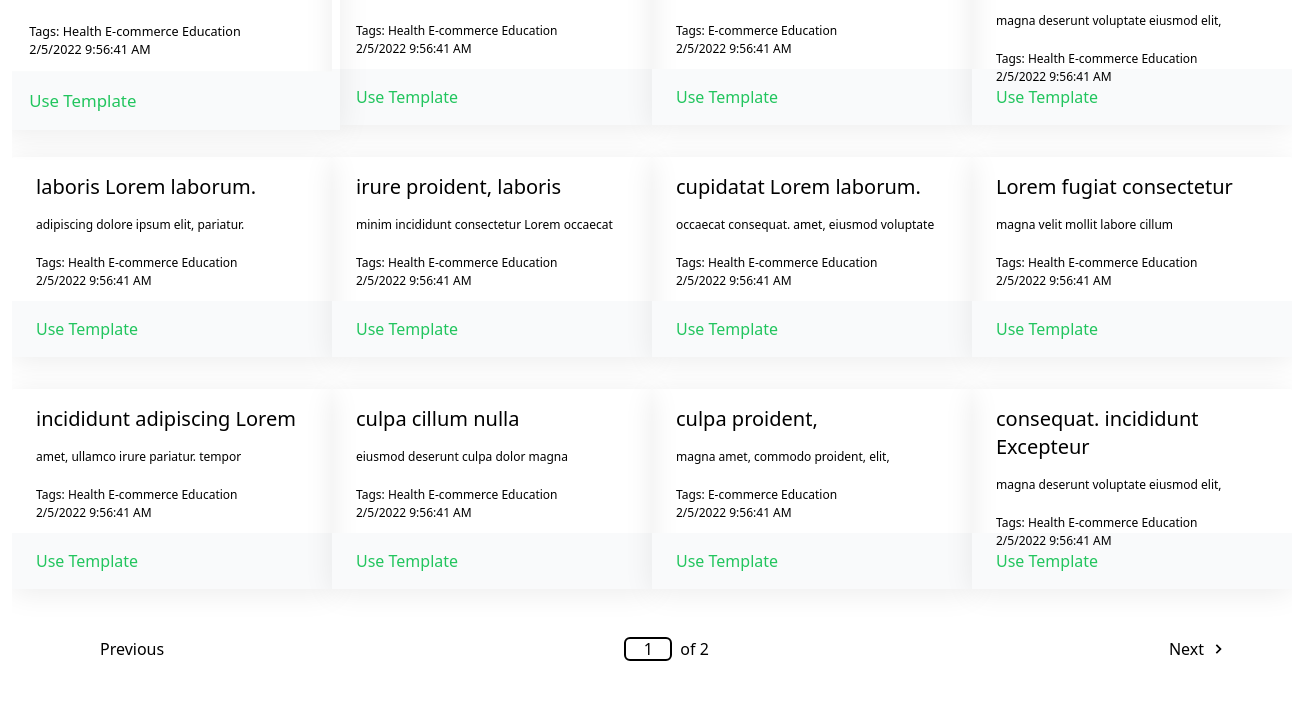
Test case: Unit tests for Templates Container › Next pagination button is disabled when user is on the last page
(page scrolled)
Click the button with test id "btnNext".
click(1198, 649)  # box [1169, 637, 1228, 661]
(page scrolled)
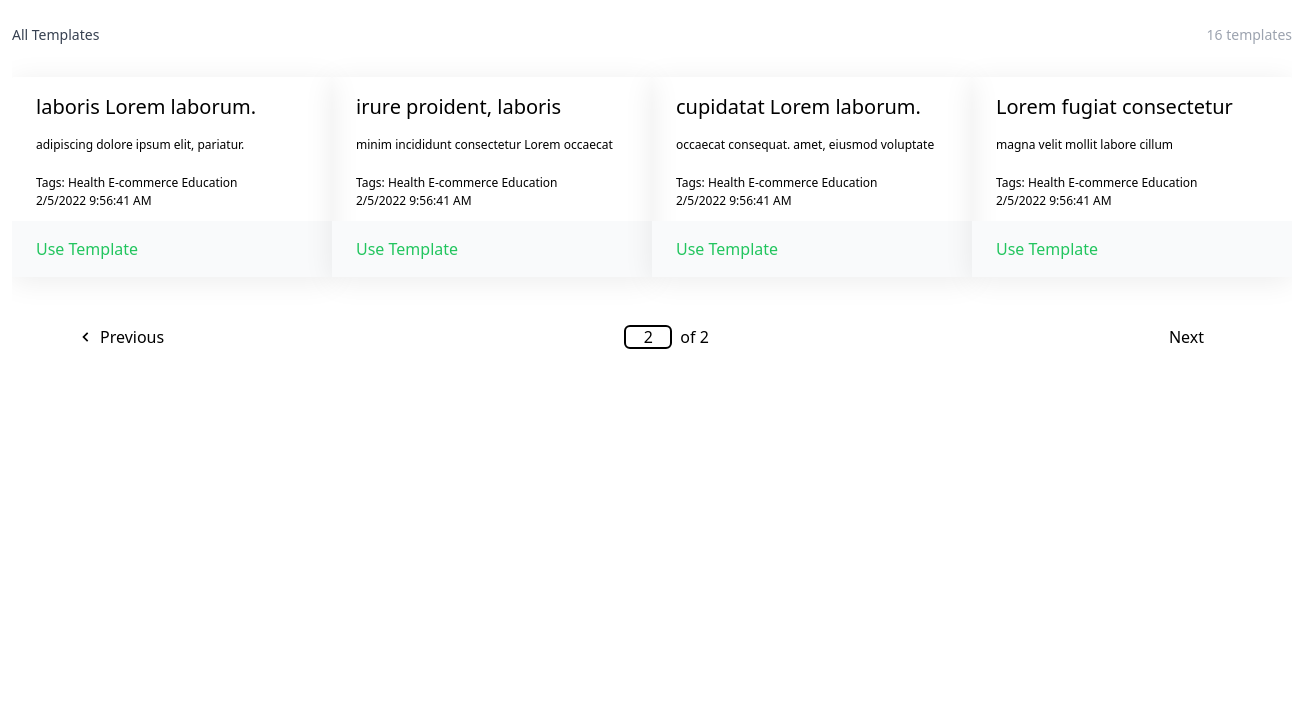
Check: the button with test id "btnNext" is disabled, box [1169, 325, 1228, 349]
